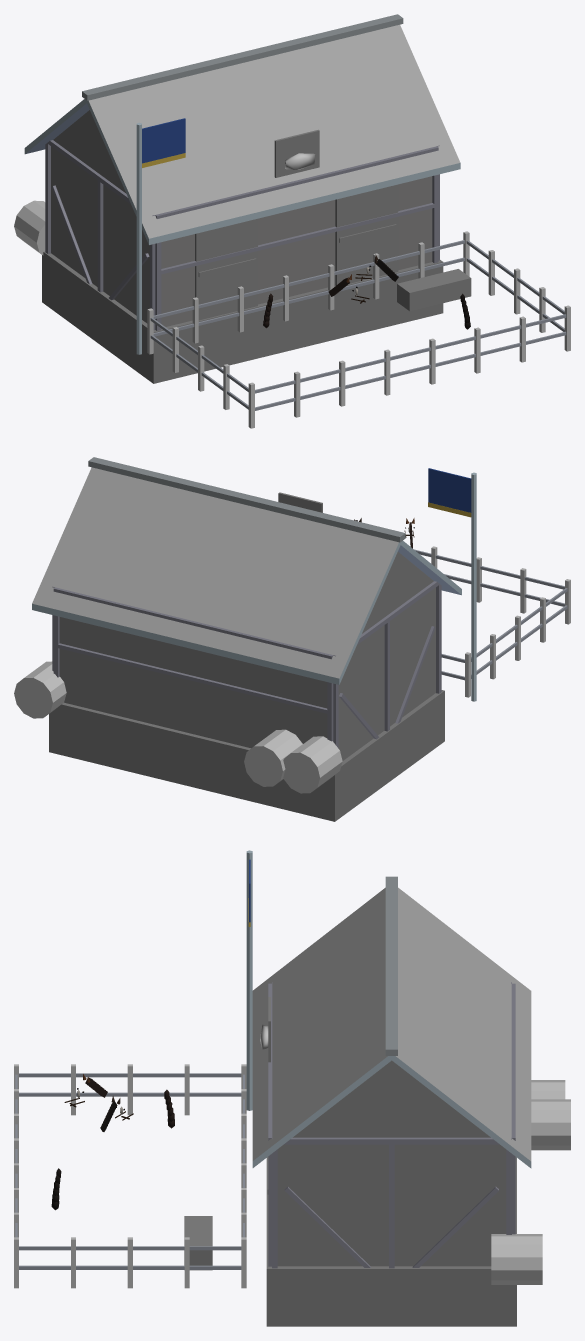
The model's file is site_stall.glb.
The picture shows the model from 3 angles, top to bottom: view 1: azimuth 30°, elevation 25°; view 2: azimuth 150°, elevation 25°; view 3: azimuth 270°, elevation 25°; orthographic projection. The views are drawn at different scales.
Parts seen in each view (by area): view 1: site_stall; view 2: site_stall; view 3: site_stall.
Part boxes in pixels (box(x1,y1,x2,y2)): site_stall: box(14, 14, 570, 428); site_stall: box(14, 457, 570, 821); site_stall: box(14, 850, 570, 1326).
Size of the model in its own units: 7.71 by 5.9 by 9.8.
